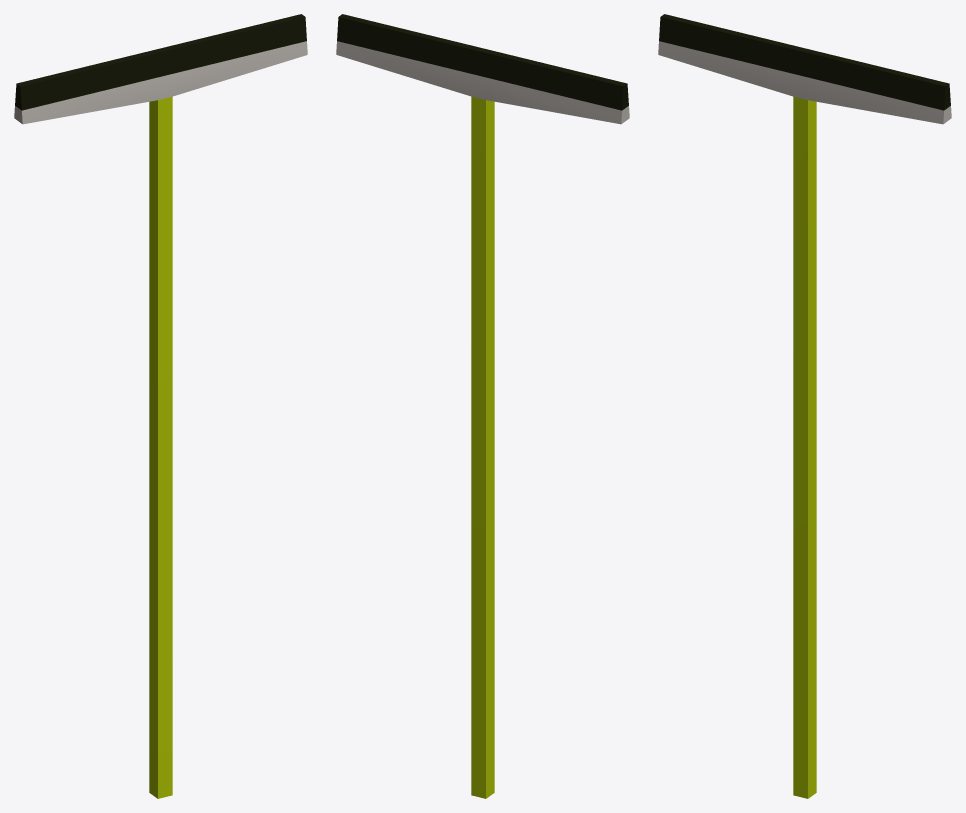
Rendered from Standard_Tool.fbx.
3 views of the same model, side by side, from view 1: azimuth 30°, elevation 25°; view 2: azimuth 150°, elevation 25°; view 3: azimuth 330°, elevation 25° (orthographic).
Parts seen in each view (by area): view 1: Standard_Tool; view 2: Standard_Tool; view 3: Standard_Tool.
Boxes of the visible parts, x1,y1,x2,y2 form: Standard_Tool: (14,14,307,798); Standard_Tool: (336,14,629,798); Standard_Tool: (658,14,951,798).
Bounding box in the file's own units: 19.33 × 48.19 × 1.
